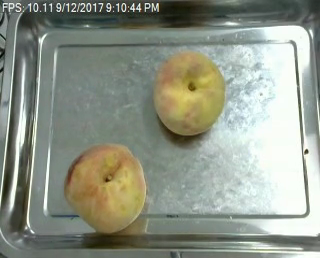Peach: (63, 142, 147, 234), (152, 48, 226, 136)
